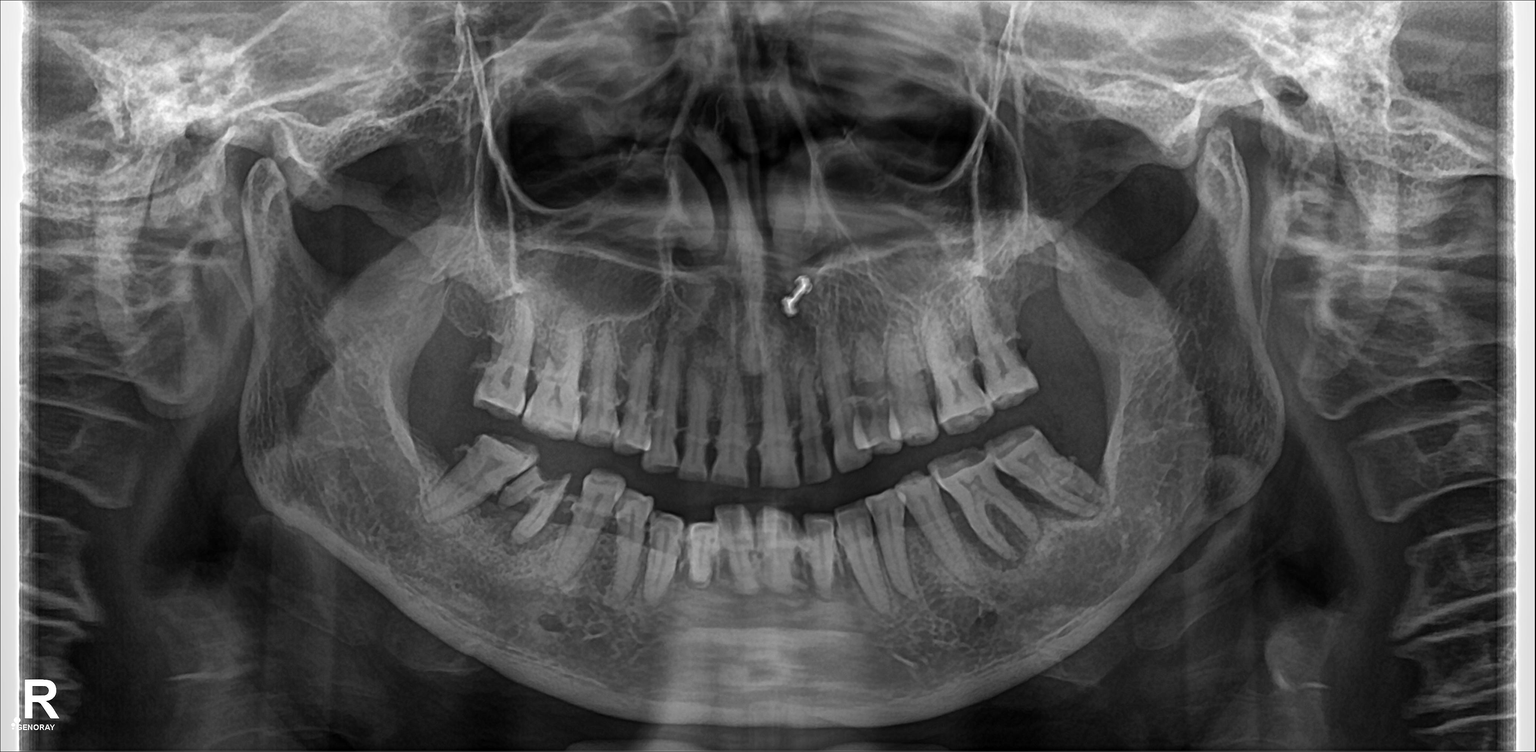Dental Caries: (782, 545, 815, 584)
Missing Tooth: (439, 290, 492, 396), (1024, 283, 1077, 377), (402, 398, 460, 477), (1058, 408, 1111, 484)
Periapical Lesion: (948, 490, 1043, 566)
Retained Root: (514, 463, 569, 545)
